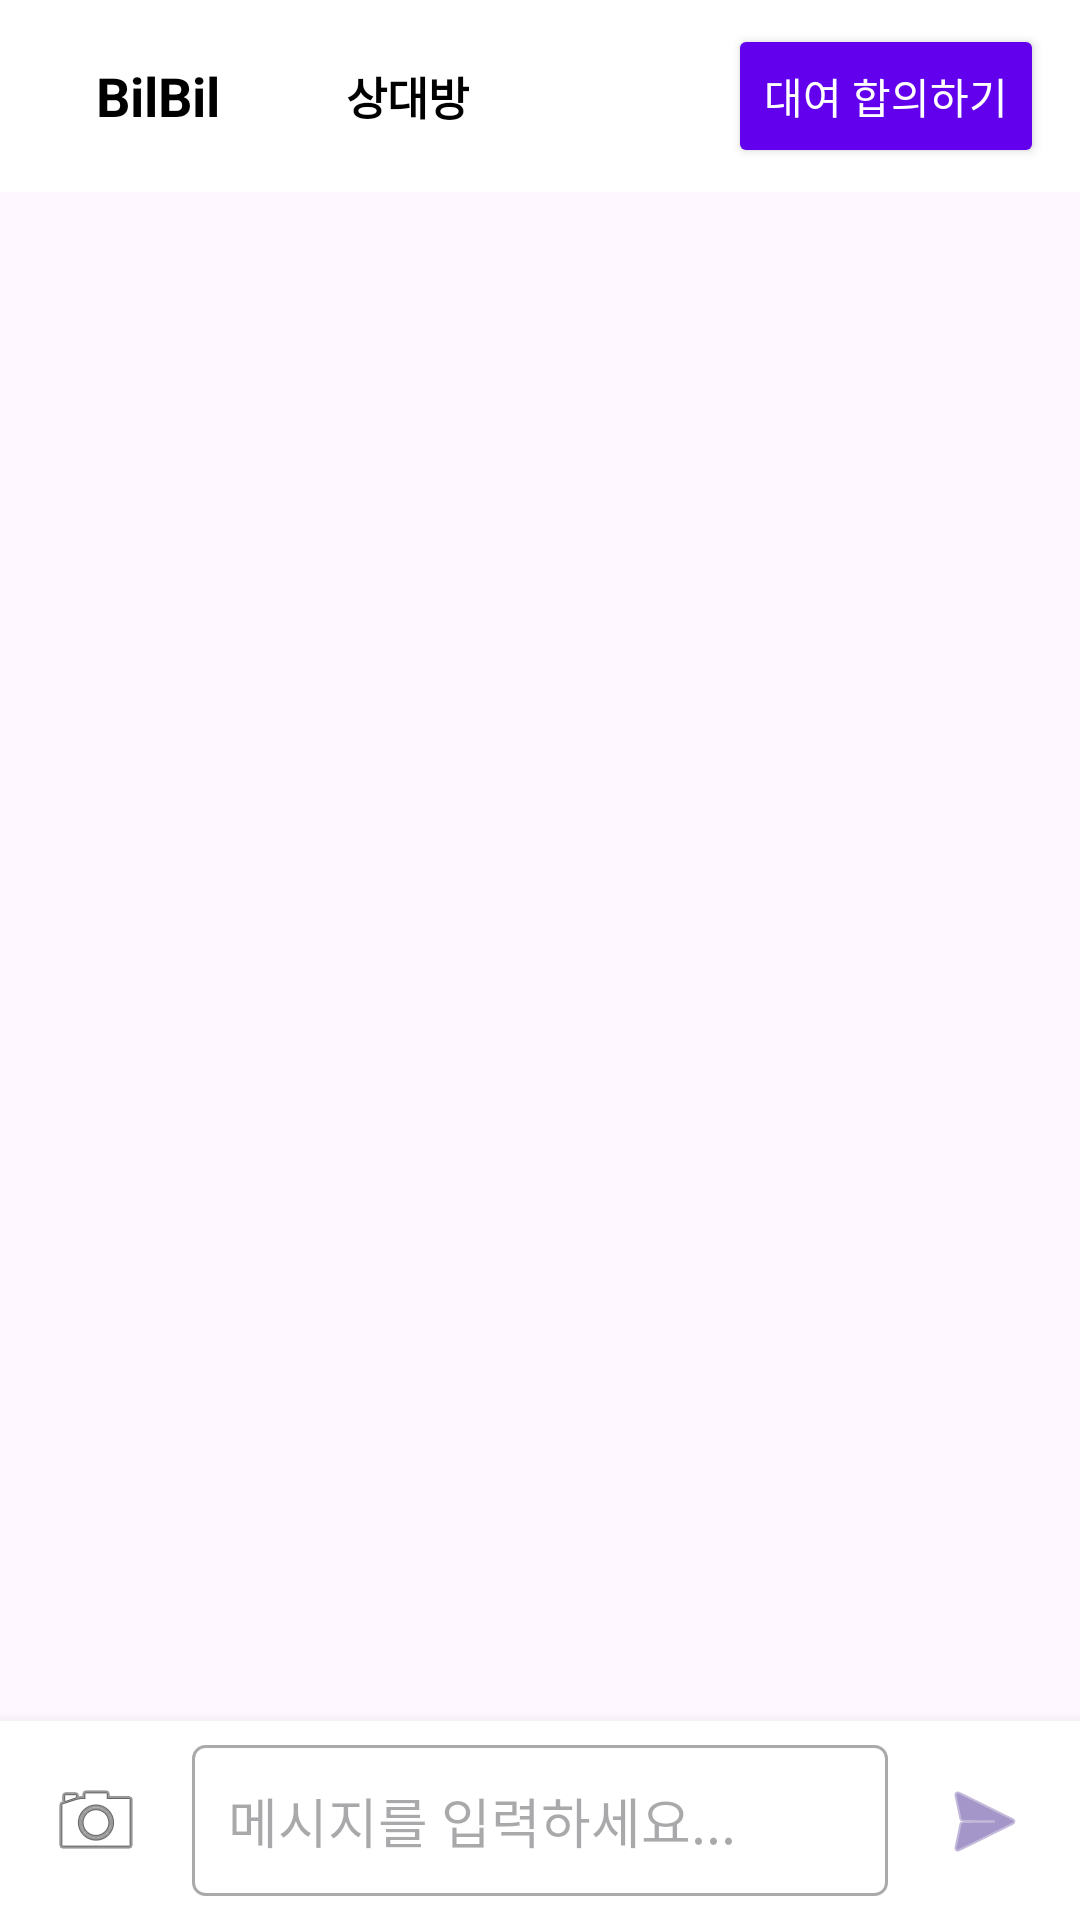

Named icons in this screenshot (1080 x 1920) and their bounding boxes, [left=x1, top=y1, right=x2, bottom=y2]:
이미지 첨부: [left=59, top=1790, right=133, bottom=1849]
전송: [left=954, top=1791, right=1015, bottom=1852]
